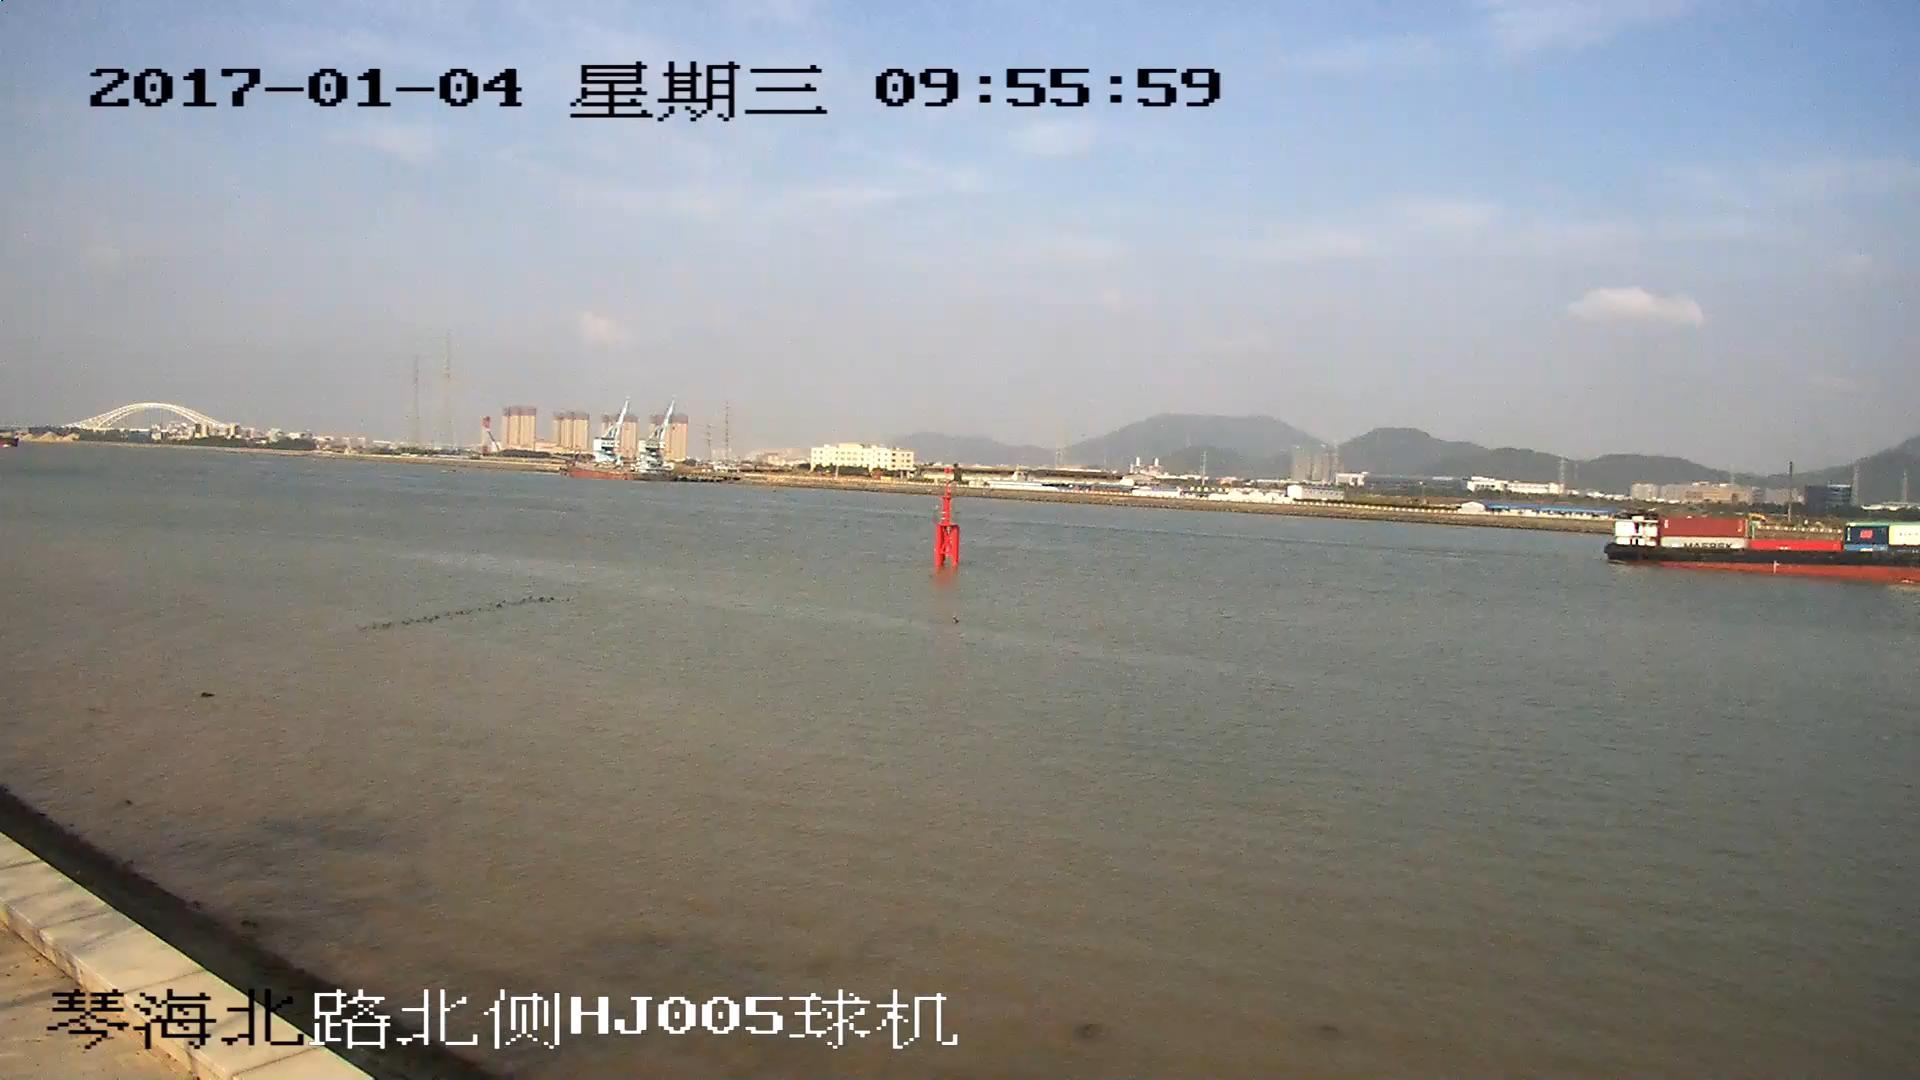Ship: (1604, 513, 1920, 587)
